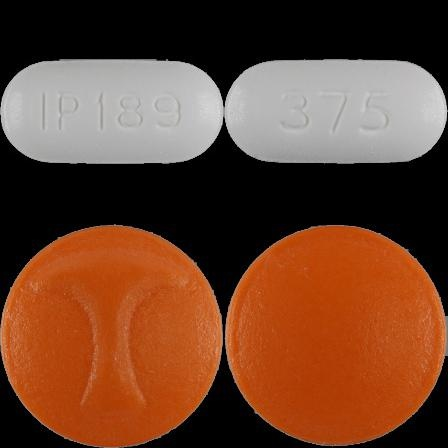67544-456: (0, 0, 224, 224)
